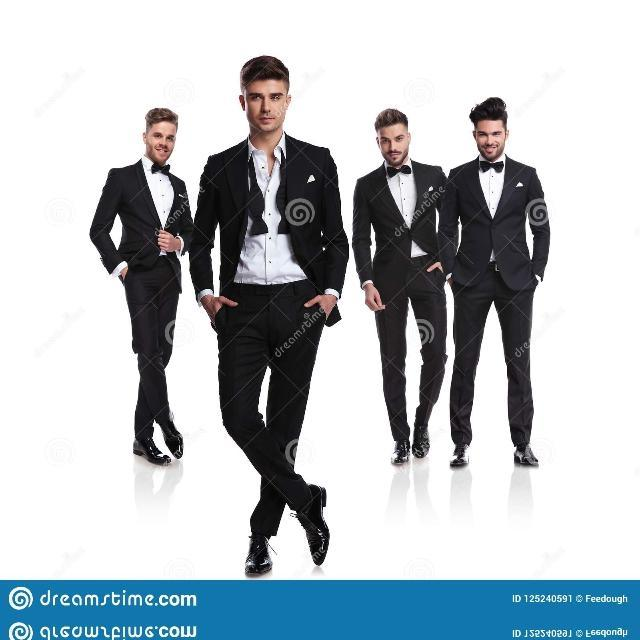person: (208, 57, 362, 603), (104, 91, 202, 448), (454, 90, 546, 384), (352, 102, 442, 258), (207, 629, 362, 640)
